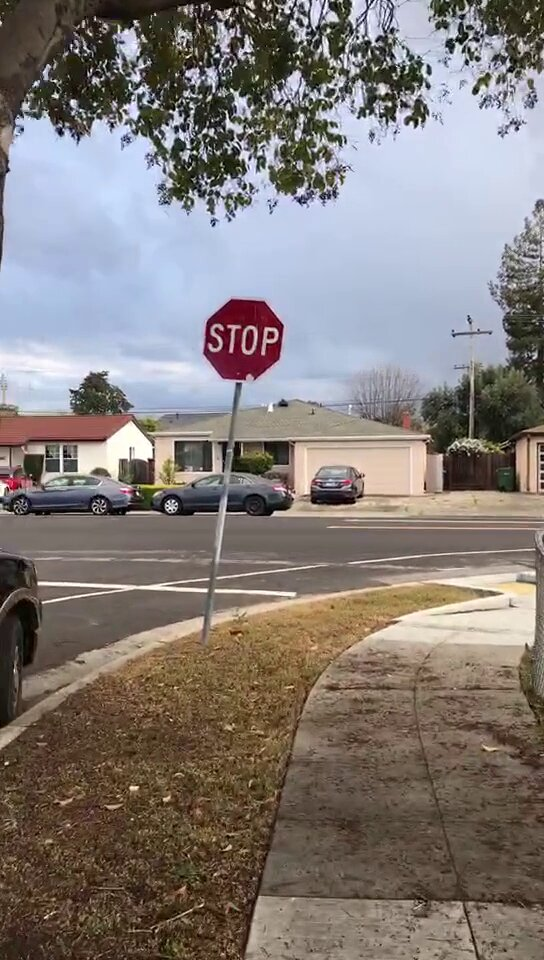stop_sign: (204, 298, 284, 381)
